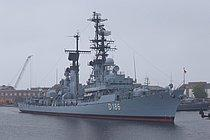MIL_Ship: (16, 11, 185, 124)
